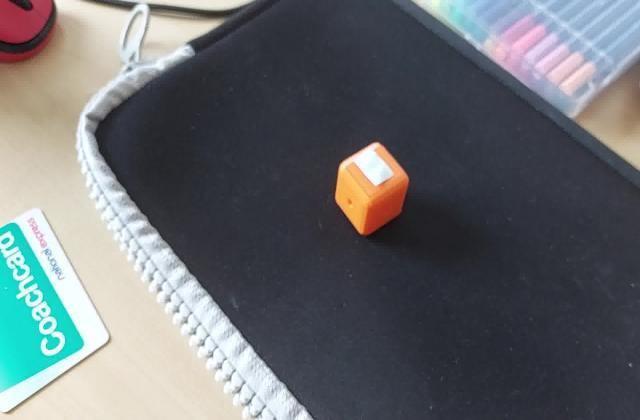sticker: (332, 140, 411, 236)
white: (356, 156, 397, 187)
